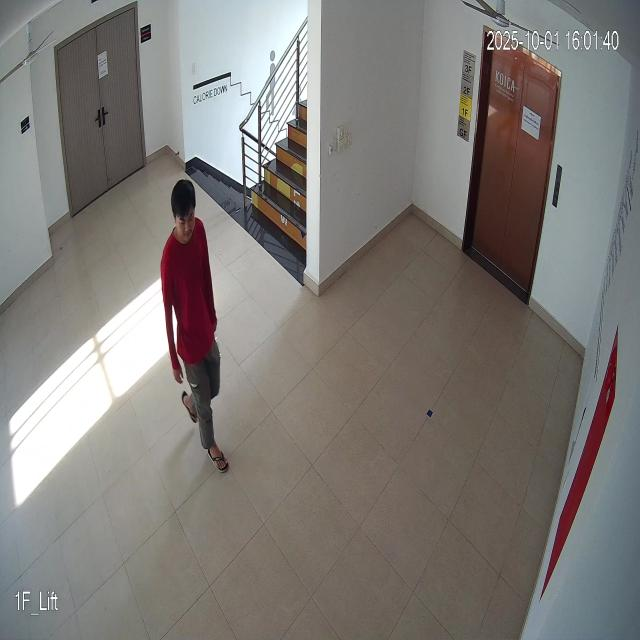face: (168, 181, 201, 252)
